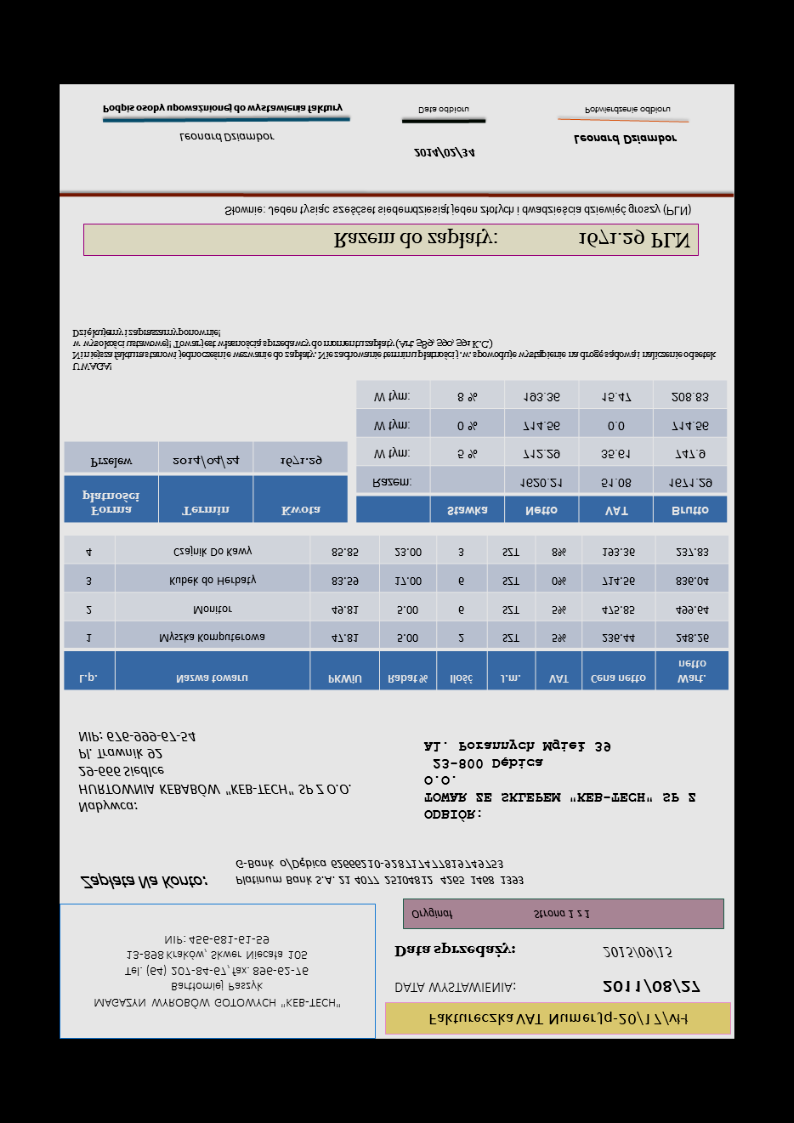Table: (63, 534, 729, 692), (354, 379, 728, 524), (63, 440, 349, 525)
TextBox: (70, 325, 718, 373), (421, 737, 700, 825), (75, 729, 352, 816), (91, 932, 343, 1012), (332, 226, 693, 253), (233, 855, 527, 888), (223, 201, 691, 220), (426, 1010, 689, 1029), (100, 101, 345, 117), (410, 905, 590, 921), (78, 871, 208, 892), (392, 941, 519, 960), (392, 978, 517, 996), (601, 975, 701, 995), (177, 130, 277, 145), (570, 133, 677, 147), (602, 944, 673, 961), (412, 145, 476, 161), (583, 105, 672, 116), (415, 104, 470, 117)
